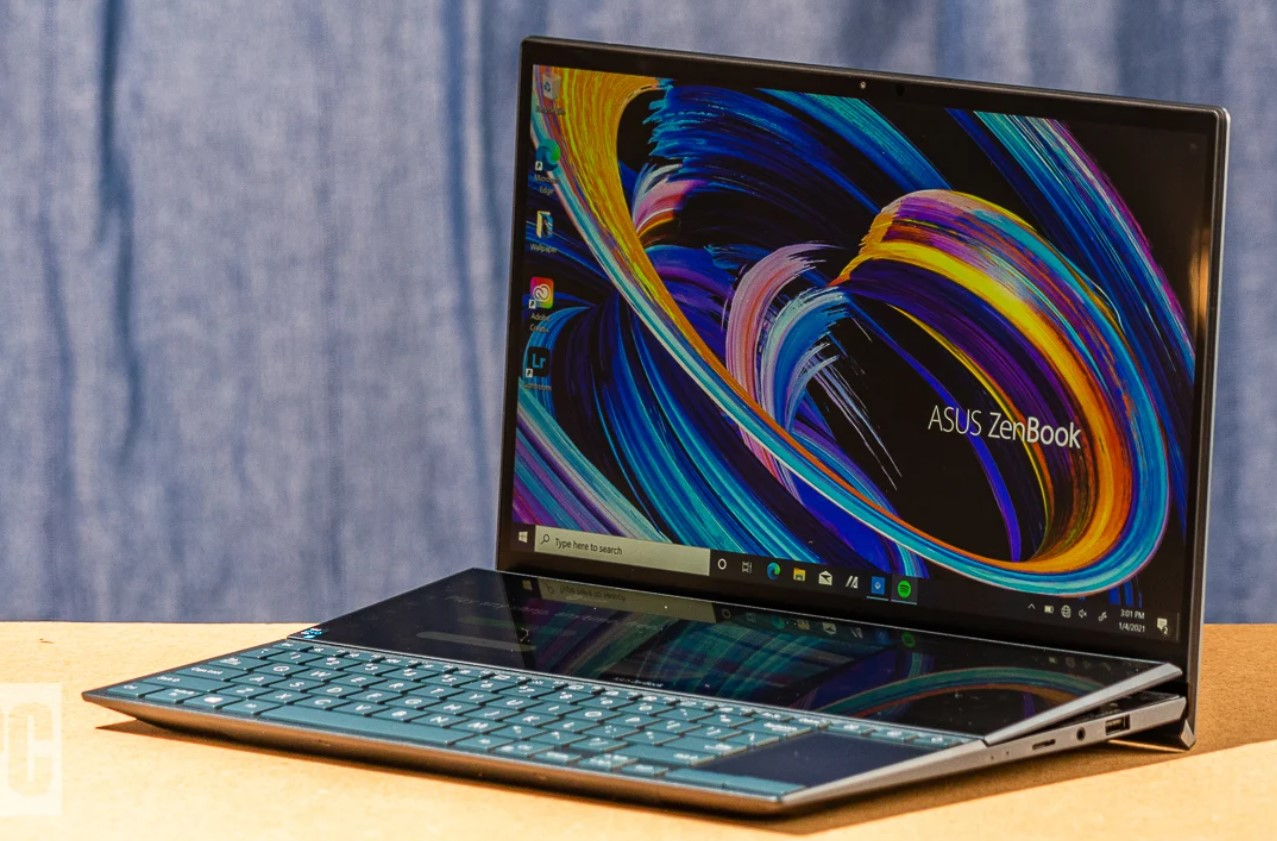laptops: (81, 27, 1253, 817)
